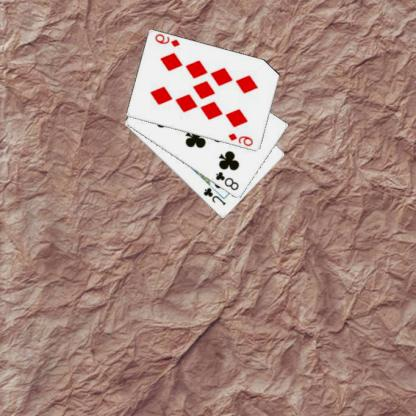8C: (215, 169, 242, 192)
9D: (154, 32, 183, 49), (228, 130, 256, 147)
JC: (202, 185, 228, 207)
